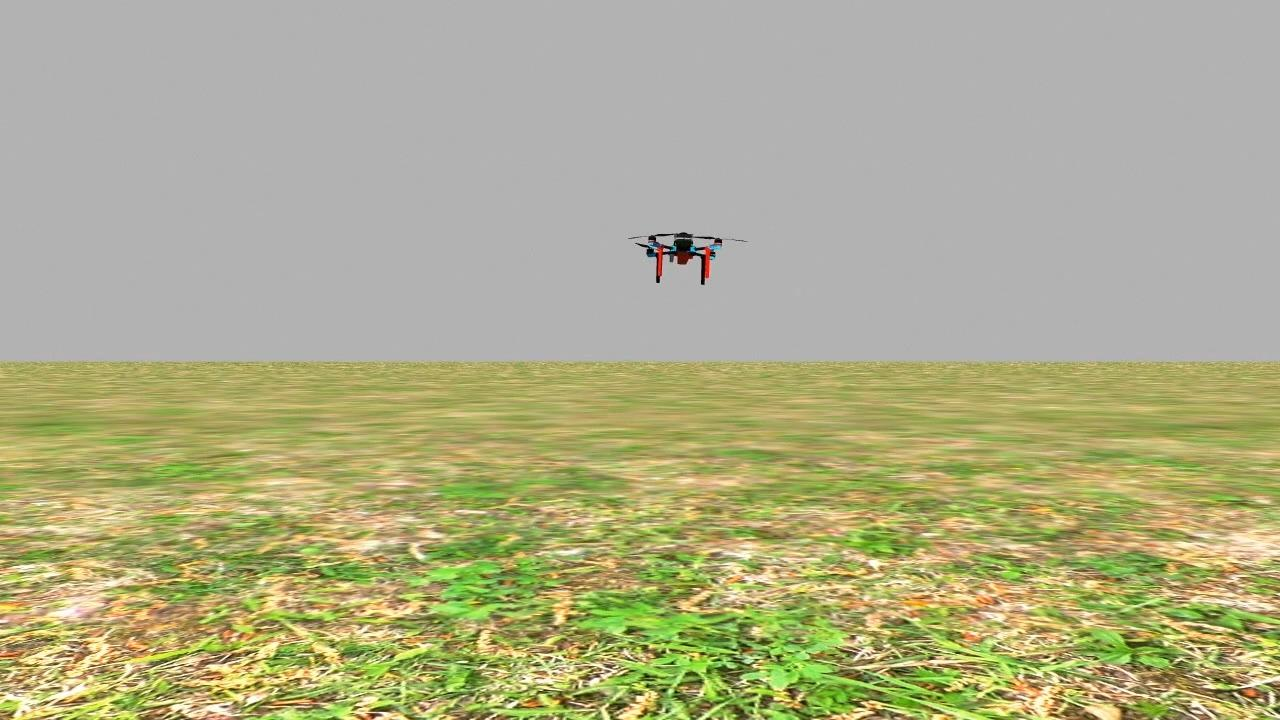UAV: (645, 221, 719, 296)
